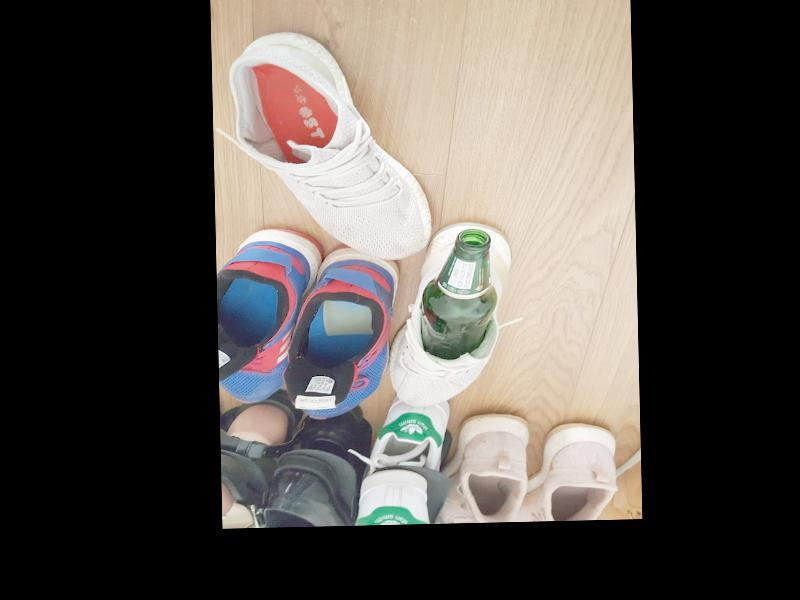Beer: (417, 227, 498, 358)
